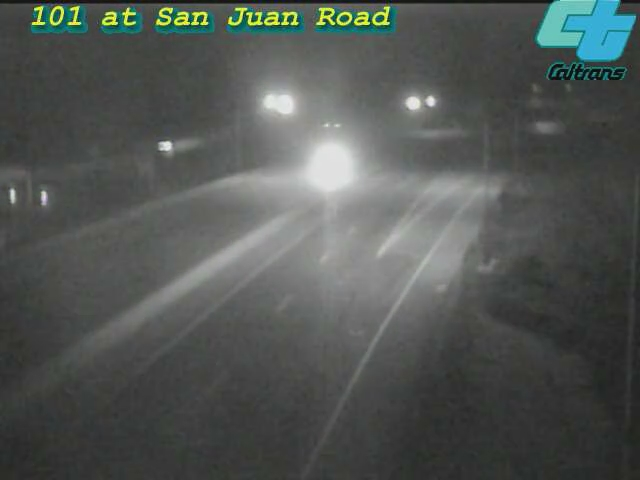vehicle: (286, 126, 366, 206), (519, 103, 569, 153)
